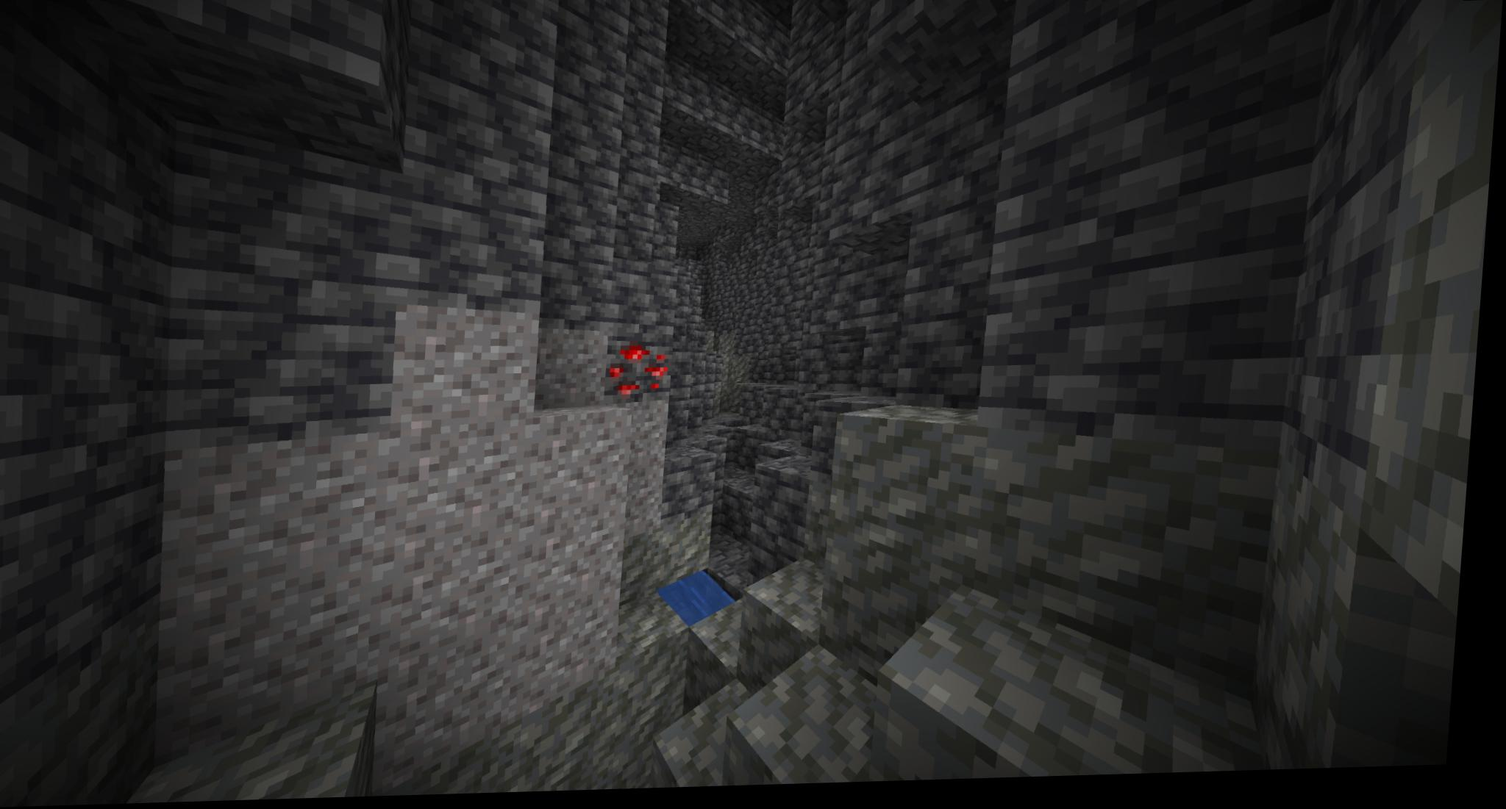redstone ore: (611, 342, 678, 405)
